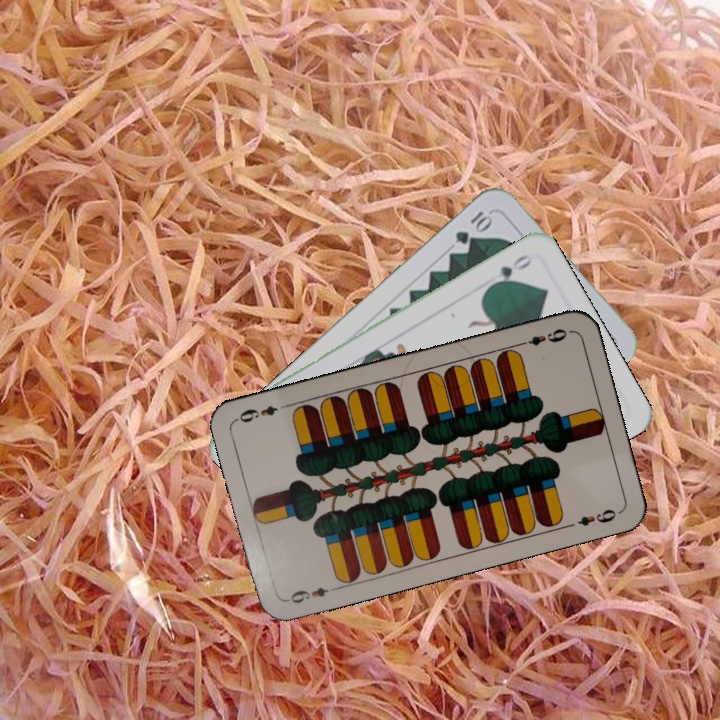E9: (514, 324, 570, 349), (282, 583, 341, 606)
G10: (451, 206, 496, 247)
GO: (484, 250, 535, 291)
